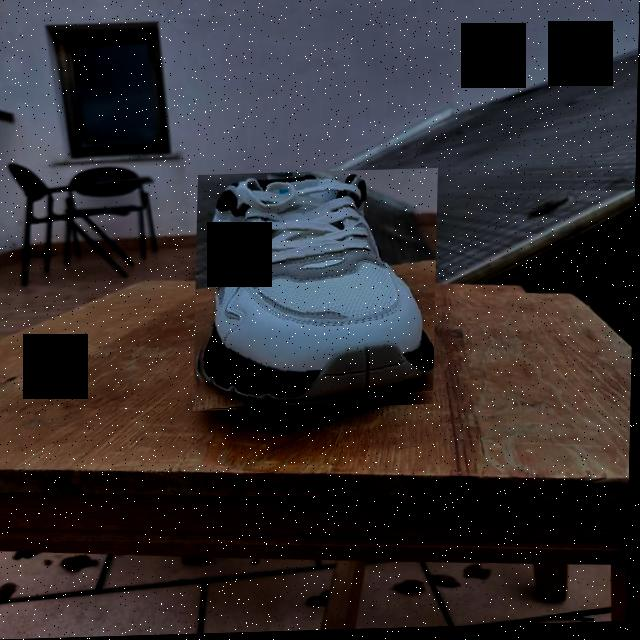shoe: (195, 171, 439, 413)
